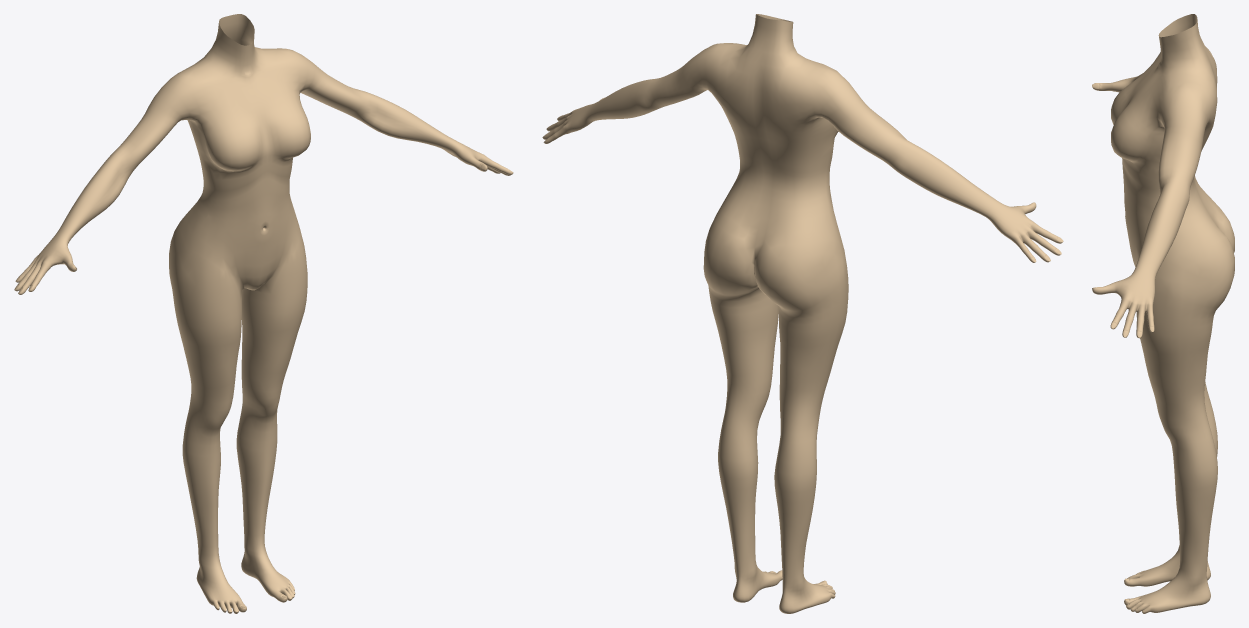
File: Female.glb
3 renders of one model, left to right at view 1: azimuth 30°, elevation 25°; view 2: azimuth 150°, elevation 25°; view 3: azimuth 270°, elevation 25°, orthographic. The views are drawn at different scales.
Visible parts, largest first — view 1: Body; view 2: Body; view 3: Body.
Boxes of the visible parts, left/top/right/bottom form: Body: left=14, top=14, right=513, bottom=613; Body: left=542, top=14, right=1063, bottom=613; Body: left=1092, top=14, right=1234, bottom=613.
Bounding box in the file's own units: 57.27 × 62.89 × 14.12.
